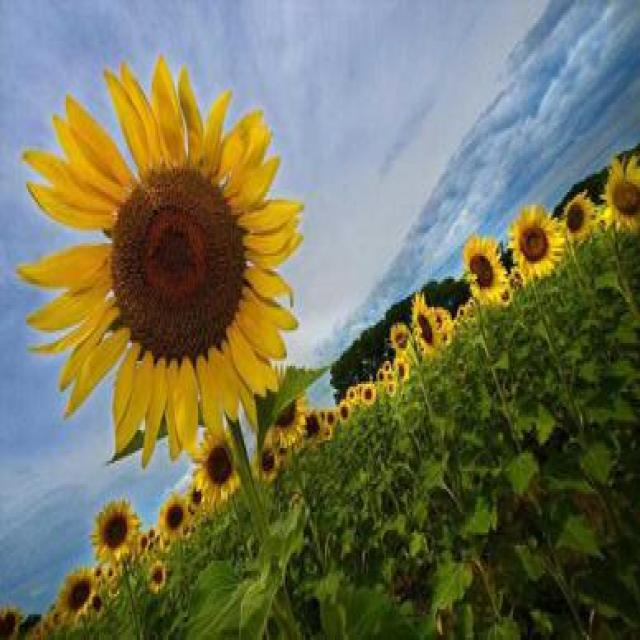sunflower: (16, 49, 304, 468), (506, 196, 566, 290), (454, 233, 509, 317), (187, 436, 247, 510), (258, 368, 311, 451), (87, 489, 142, 566), (595, 153, 640, 240), (54, 568, 102, 628), (407, 289, 442, 369), (561, 182, 599, 251), (250, 430, 286, 492), (158, 493, 192, 541), (145, 550, 172, 607), (388, 314, 412, 362), (0, 599, 23, 640), (360, 378, 380, 406), (324, 404, 342, 432), (342, 397, 356, 422), (396, 352, 407, 383)
